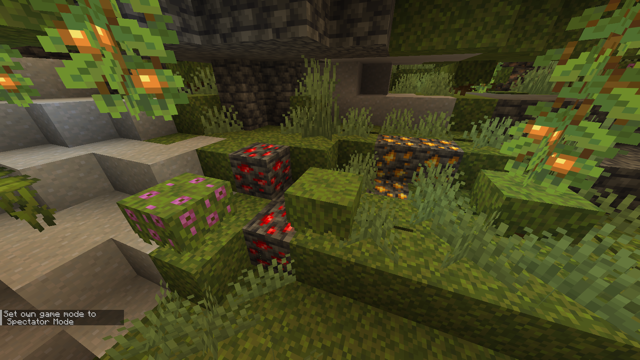gold: (376, 132, 460, 202)
iron: (500, 60, 532, 91)
redstone: (244, 202, 296, 271), (233, 145, 291, 192)
